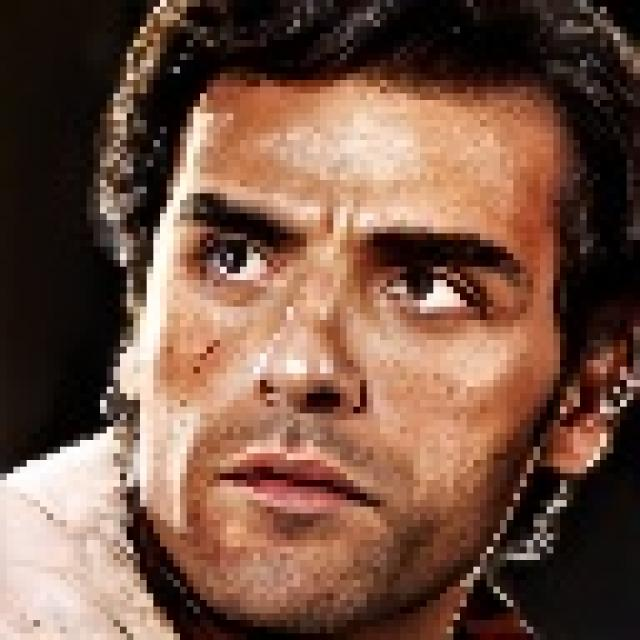angry: (66, 13, 640, 639)
